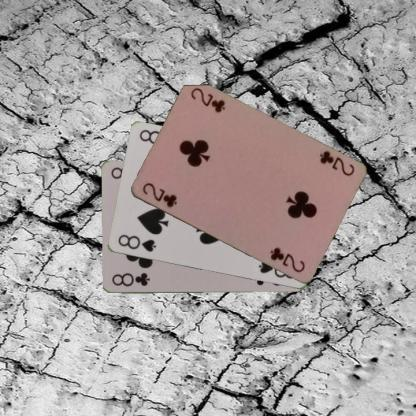2c: (314, 148, 356, 177), (139, 180, 178, 209)
8c: (109, 270, 151, 288)
8s: (115, 232, 157, 254)
